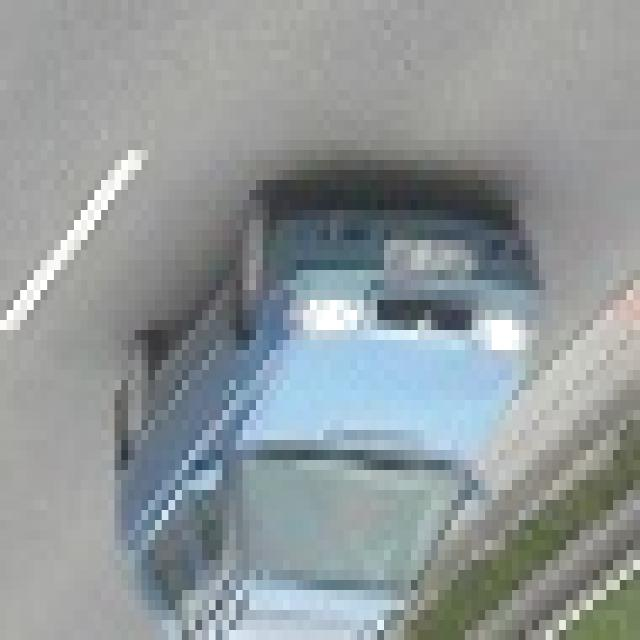blue: (113, 190, 540, 632)
